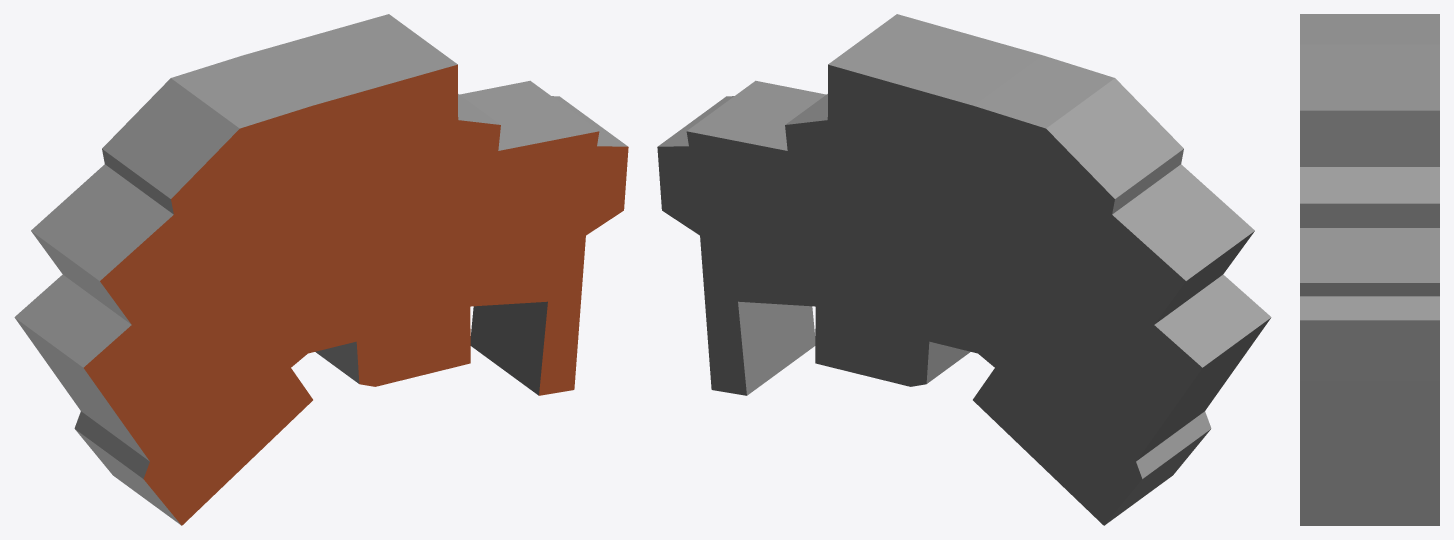
The model's file is construction_2435_assumed_A_Casa_h6m.obj.
3 renders of one model, left to right at view 1: azimuth 30°, elevation 25°; view 2: azimuth 150°, elevation 25°; view 3: azimuth 270°, elevation 25°, orthographic.
Visible parts, largest first — view 1: construction_2435_assumed_A_Casa; view 2: construction_2435_assumed_A_Casa; view 3: construction_2435_assumed_A_Casa.
Boxes of the visible parts, x1,y1,x2,y2 form: construction_2435_assumed_A_Casa: [14, 14, 628, 525]; construction_2435_assumed_A_Casa: [657, 14, 1271, 525]; construction_2435_assumed_A_Casa: [1300, 14, 1439, 525].
Size of the model in its own units: 27.34 by 18.89 by 6.
